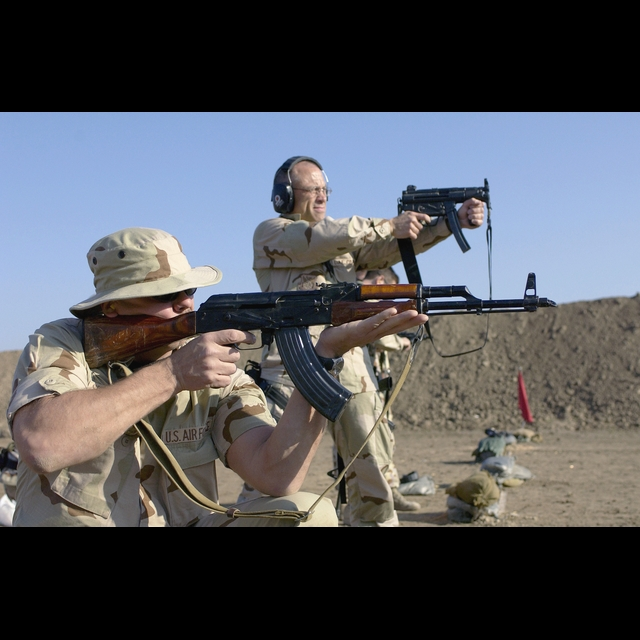AK47: (212, 285, 558, 361)
